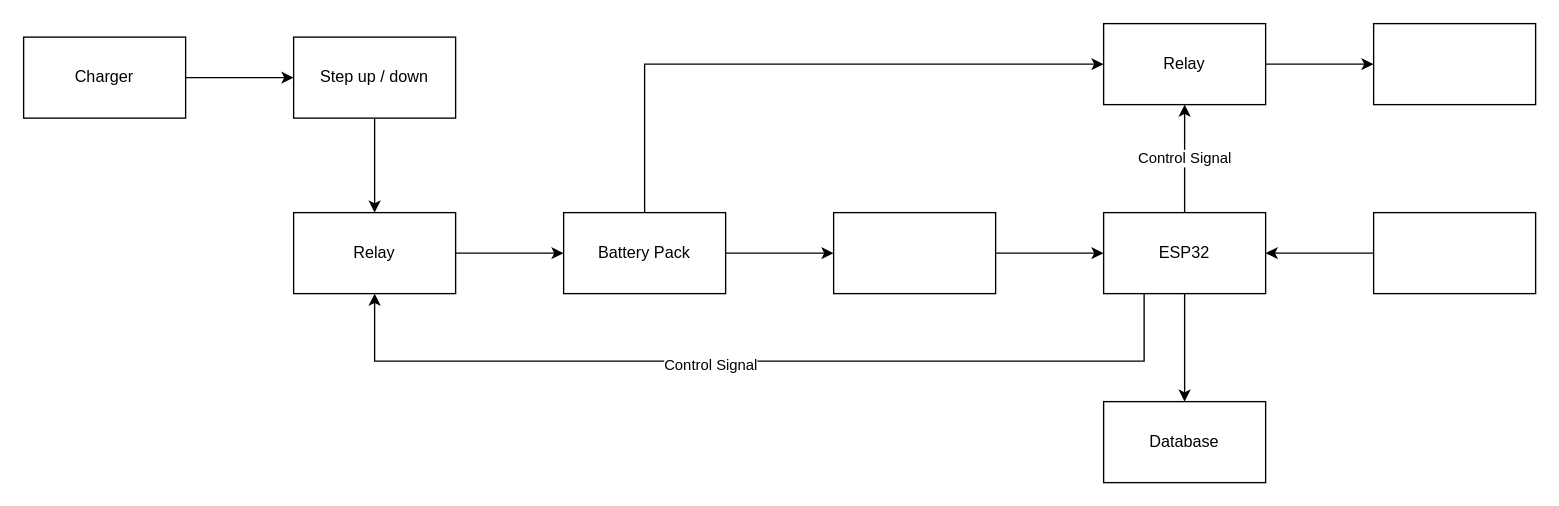
This 1559x506 diagram has some shape labels left out. Each missing label, with the box of its shape:
Load: (1372, 22, 1536, 105)
Sensor tegangan: (832, 211, 996, 294)
Sensor tegangan PLN: (1372, 211, 1536, 294)
